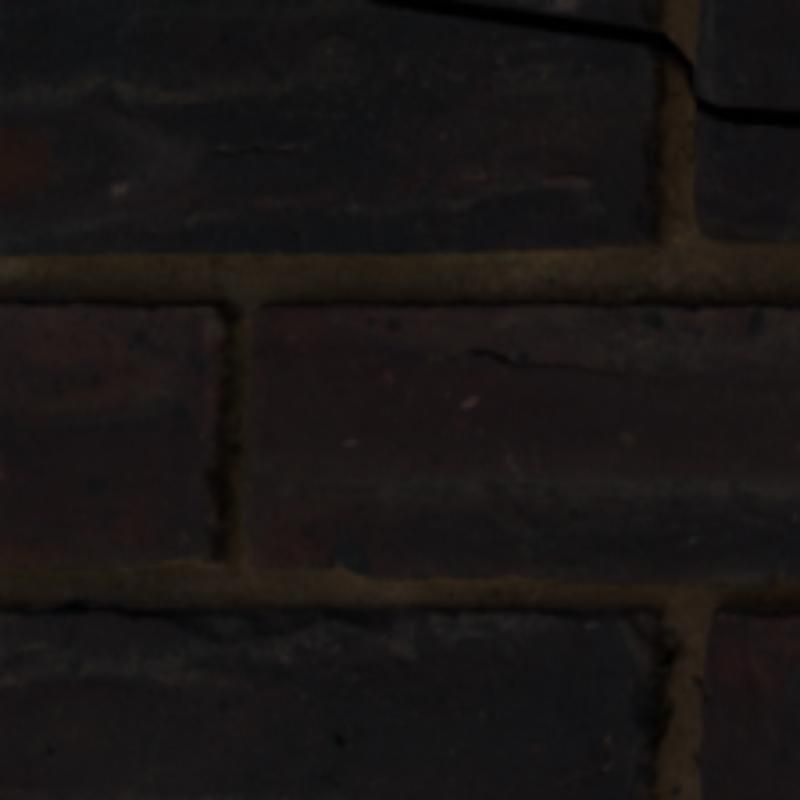crack: (371, 0, 689, 84), (692, 91, 796, 125)
